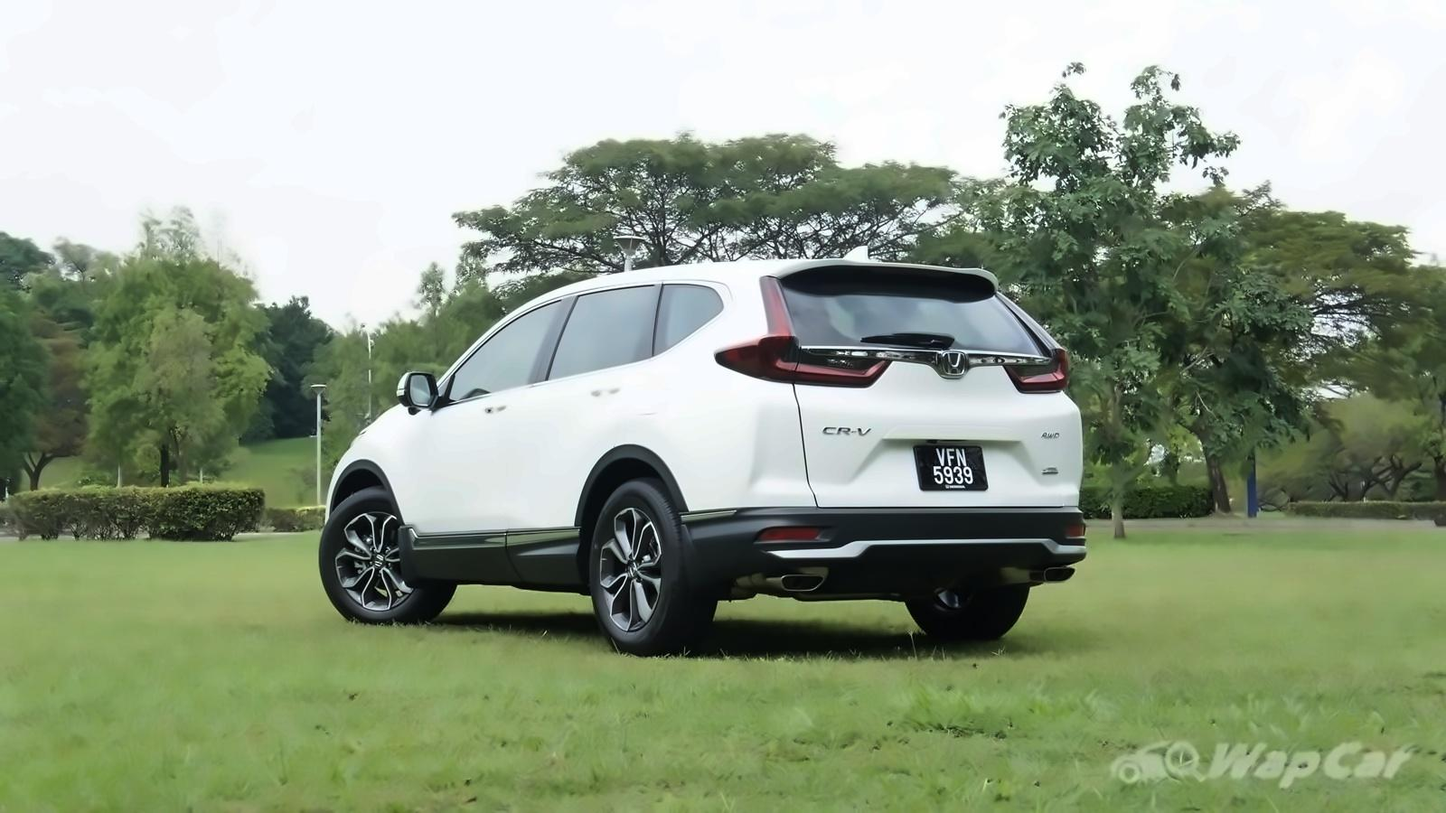Car boot: (771, 254, 1087, 512)
Fender - -F-L-: (329, 386, 420, 562)
Fender - -R-L-: (614, 252, 769, 554)
Passenger-s door - -F-L-: (397, 253, 566, 595)
Passenger-s door - -R-L-: (494, 250, 664, 595)
Rear bumper: (684, 496, 1091, 611)
Rear light - -L-: (713, 274, 890, 389)
Rear light - -R-: (999, 347, 1076, 394)
Side bumper - -L-: (397, 507, 602, 613)
Side mirror - -L-: (396, 363, 443, 416)
